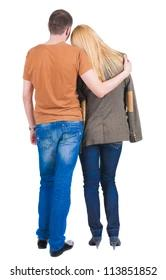jacket: (77, 51, 143, 147)
short sleeve shirt: (22, 41, 95, 124)
trousers: (34, 119, 84, 251), (79, 140, 124, 237)
